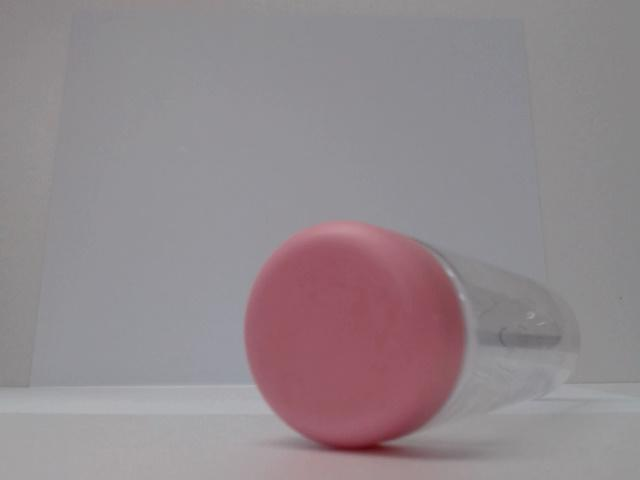bottle: (214, 226, 593, 447)
